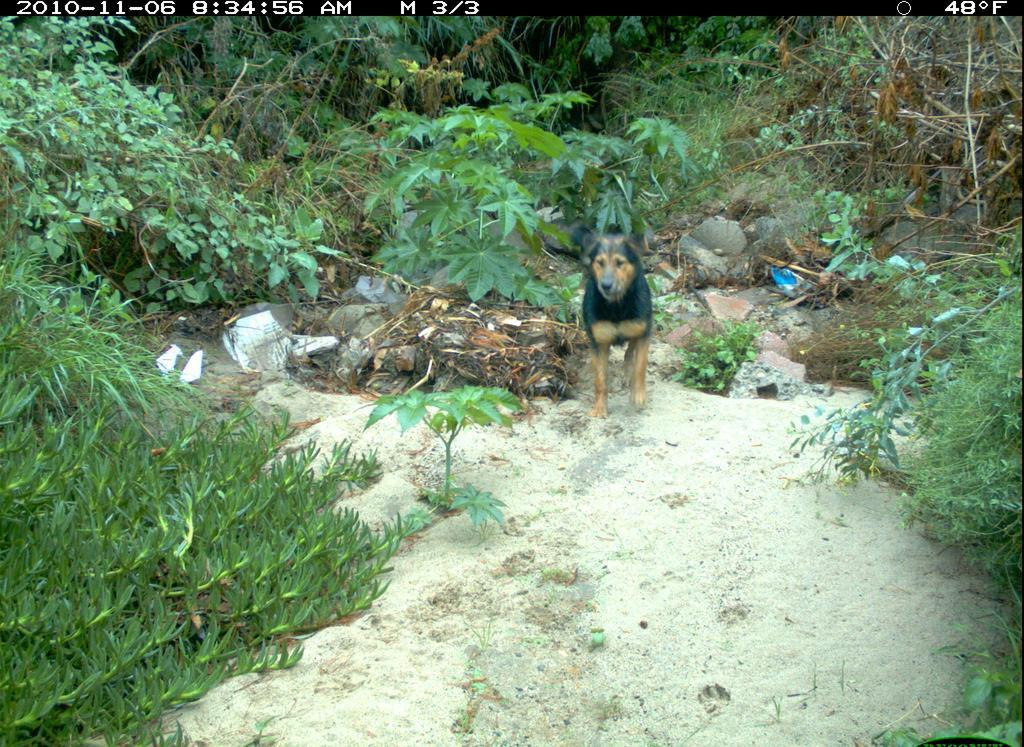dog: (568, 218, 671, 429)
